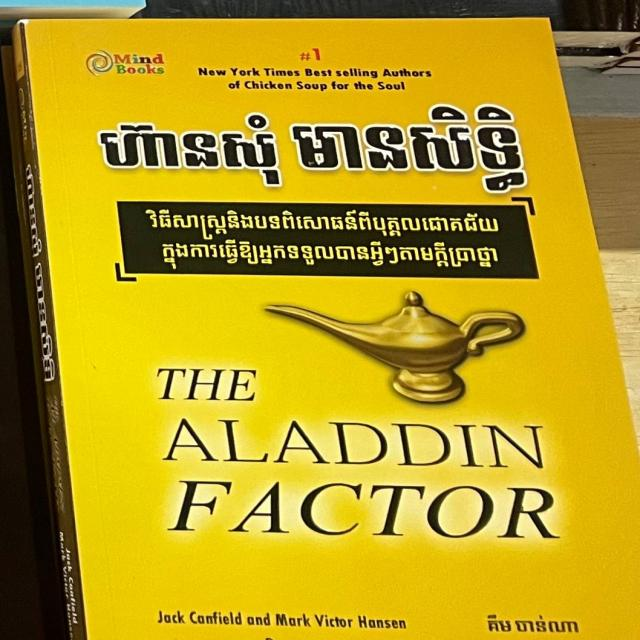1: (90, 97, 534, 192), (475, 612, 587, 639)
Yolov11kh: (136, 200, 511, 238), (157, 239, 505, 278)
